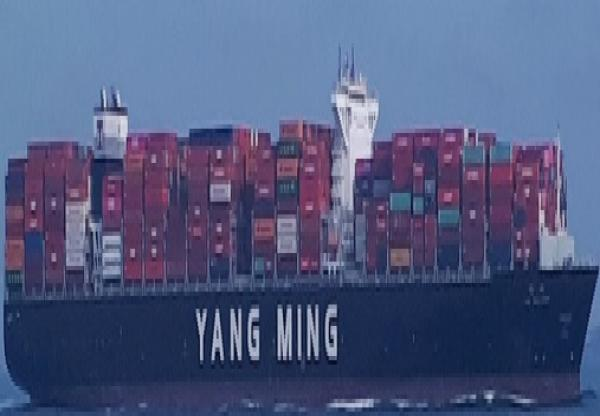Container Ship: (2, 40, 598, 410)
